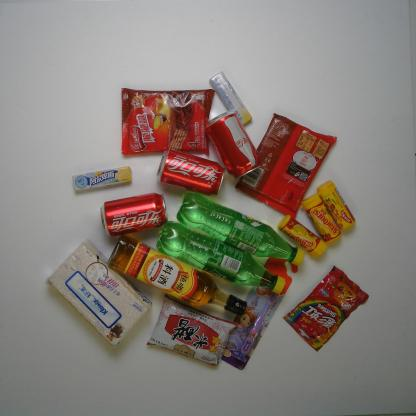Candy: (281, 264, 369, 353), (209, 71, 254, 127), (276, 214, 330, 260), (299, 193, 343, 245), (316, 179, 356, 232), (72, 166, 133, 192)
Dessert: (234, 112, 338, 219), (121, 87, 216, 157)
Drink: (155, 221, 288, 296), (176, 192, 307, 267), (204, 110, 264, 181), (155, 148, 227, 198), (99, 191, 169, 237)
Personal Hygiene: (222, 256, 299, 372)
Seasoner: (107, 233, 249, 316), (146, 293, 239, 368)
Tissue: (45, 238, 153, 348)
